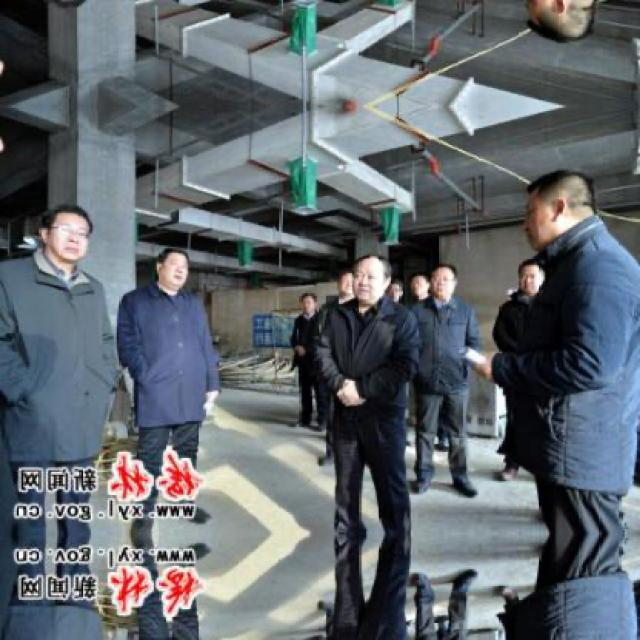sin casco: (2, 203, 116, 295), (512, 165, 612, 266), (338, 244, 401, 324), (155, 238, 224, 300), (428, 255, 459, 309)
